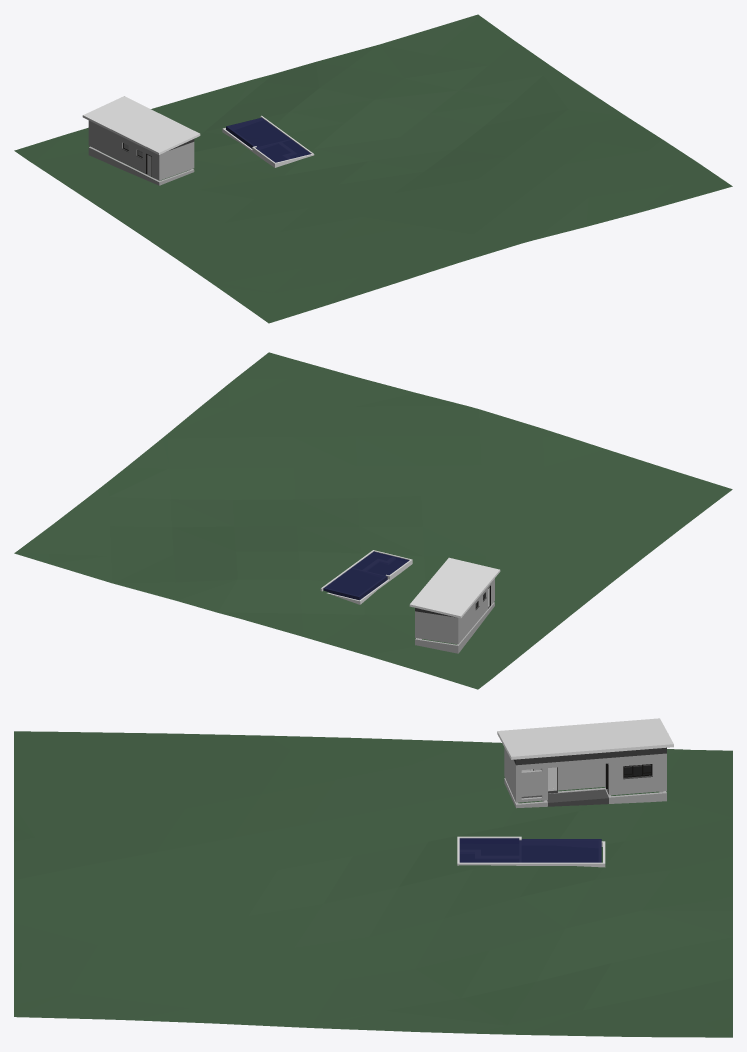
Rendered from Site.glb.
3 views of the same model, one above another, from view 1: azimuth 30°, elevation 25°; view 2: azimuth 150°, elevation 25°; view 3: azimuth 270°, elevation 25° (orthographic). The views are drawn at different scales.
Parts seen in each view (by area): view 1: EXPORT_GOOGLE_SAT_WM.001, main Plaster_1.001, main Roof.001, main Water.001, main Pavers.001; view 2: EXPORT_GOOGLE_SAT_WM.001, main Roof.001, main Plaster_1.001, main Water.001, main Pavers.001; view 3: EXPORT_GOOGLE_SAT_WM.001, main Plaster_1.001, main Roof.001, main Water.001, main Ceramic.001, main Plaster_2.001, main Pavers.001, main Facia.001.
Part boxes in pixels (box(x1,y1,x2,y2)): EXPORT_GOOGLE_SAT_WM.001: box(14, 14, 732, 323); main Plaster_1.001: box(88, 120, 194, 185); main Roof.001: box(83, 96, 199, 152); main Water.001: box(226, 117, 310, 162); main Pavers.001: box(222, 115, 314, 167); EXPORT_GOOGLE_SAT_WM.001: box(14, 352, 732, 689); main Roof.001: box(410, 557, 499, 616); main Plaster_1.001: box(415, 578, 494, 653); main Water.001: box(323, 551, 409, 600); main Pavers.001: box(320, 550, 412, 604); EXPORT_GOOGLE_SAT_WM.001: box(14, 731, 732, 1037); main Plaster_1.001: box(504, 747, 666, 808); main Roof.001: box(497, 718, 673, 756); main Water.001: box(459, 838, 601, 862); main Ceramic.001: box(521, 766, 650, 806); main Plaster_2.001: box(514, 747, 666, 779); main Pavers.001: box(457, 836, 605, 867); main Facia.001: box(497, 731, 673, 759).
Size of the model in its own units: 51.18 by 5.08 by 48.68.
